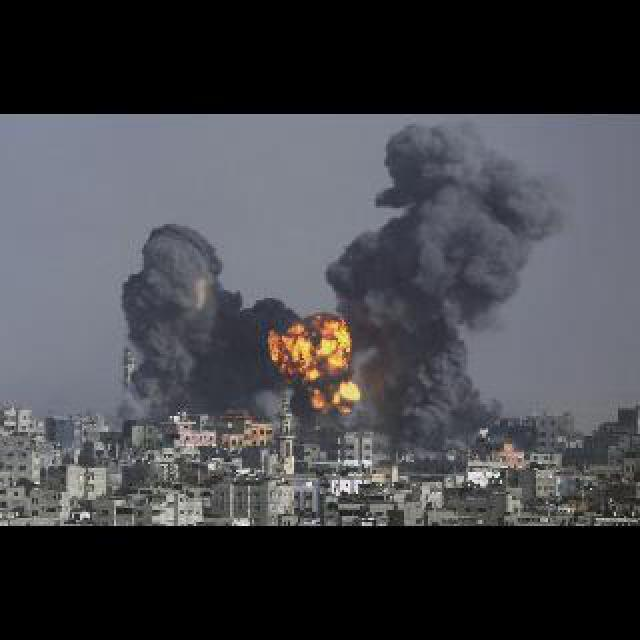Fire: (262, 308, 362, 416)
Smoke: (342, 124, 568, 422), (136, 206, 276, 418)
